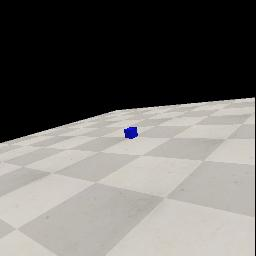box: (124, 127, 138, 139)
